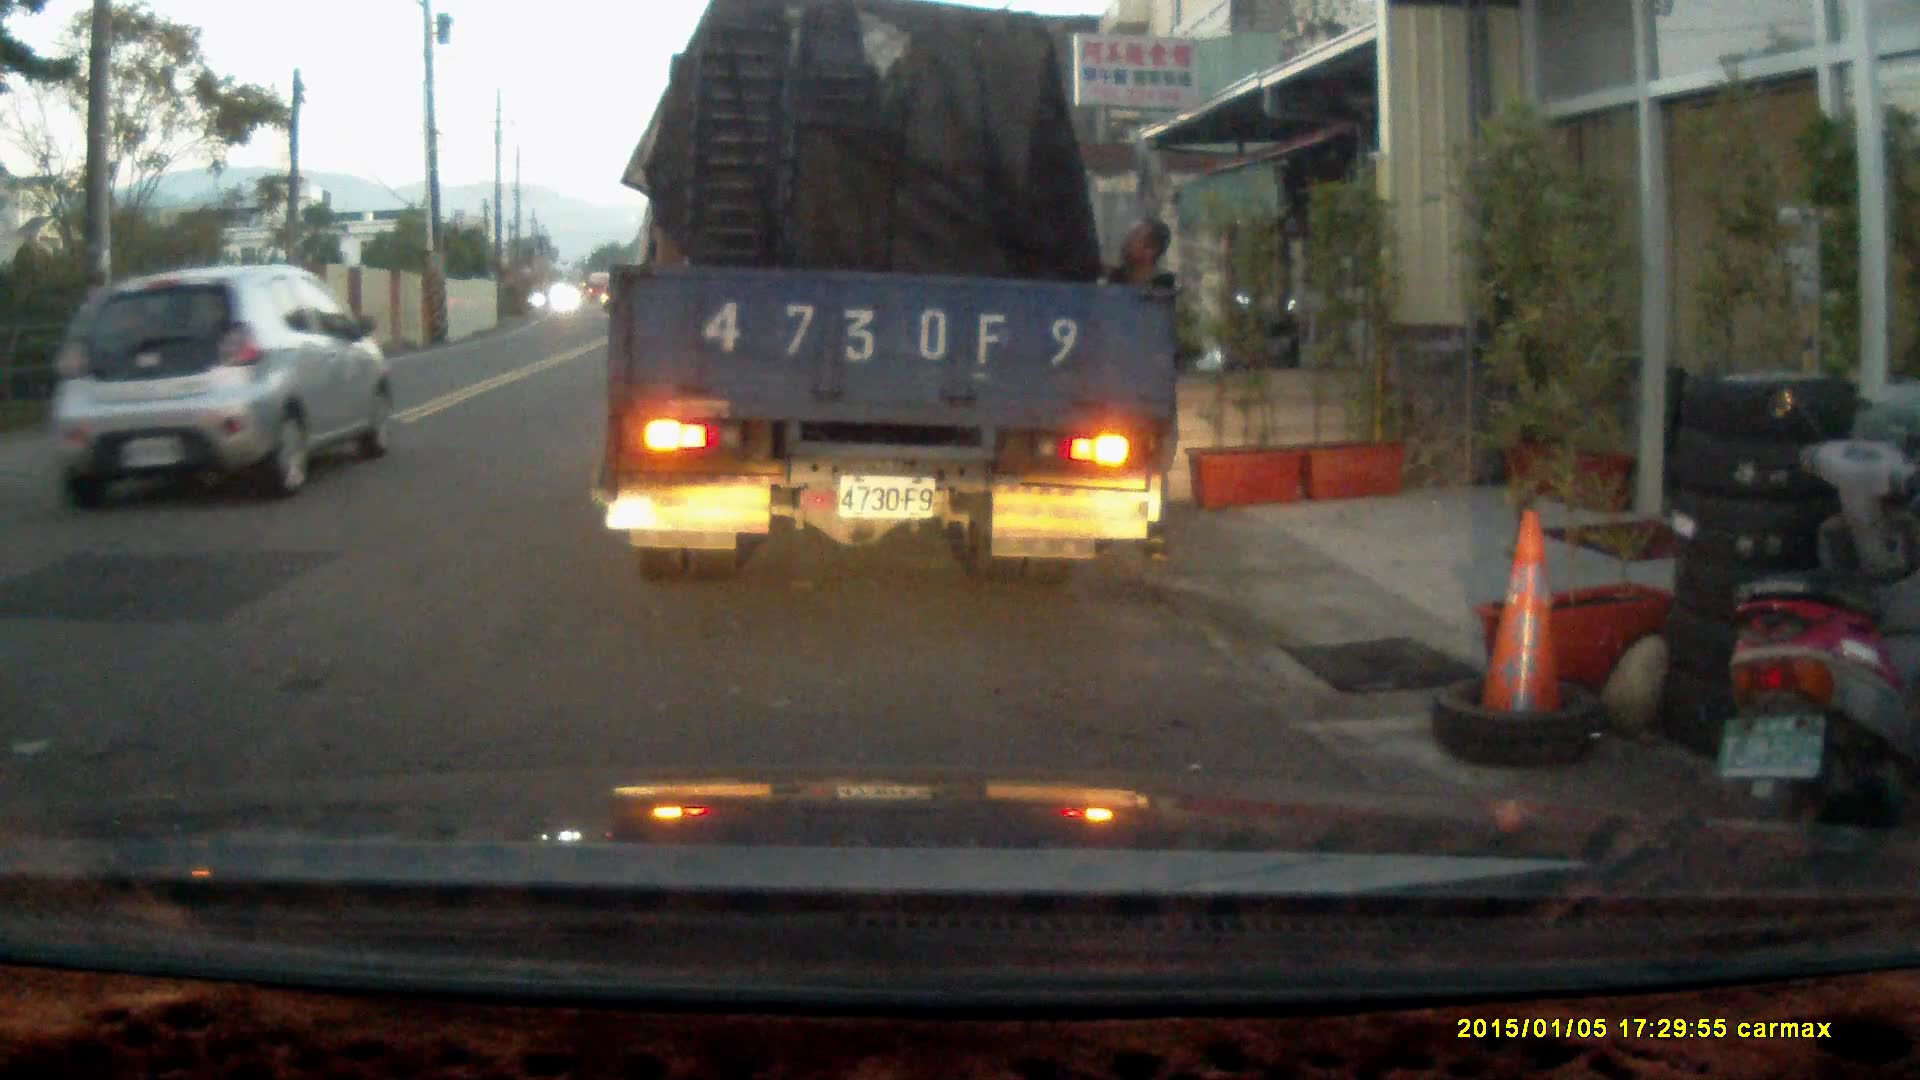pedestrian: (1085, 215, 1186, 567)
vehicle: (602, 23, 1185, 572), (38, 263, 389, 502)
